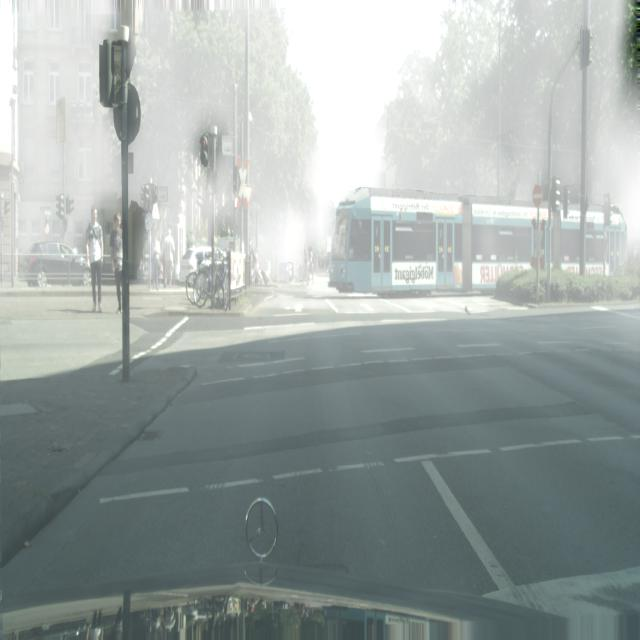bicycle: (328, 191, 628, 296)
car: (186, 263, 222, 307), (207, 251, 232, 311)
person: (86, 206, 104, 313), (110, 212, 123, 315), (162, 227, 176, 289), (151, 231, 161, 291), (306, 240, 315, 285), (302, 246, 309, 287)
truck: (21, 240, 90, 286), (178, 246, 212, 282), (277, 262, 293, 282), (298, 259, 308, 287)
